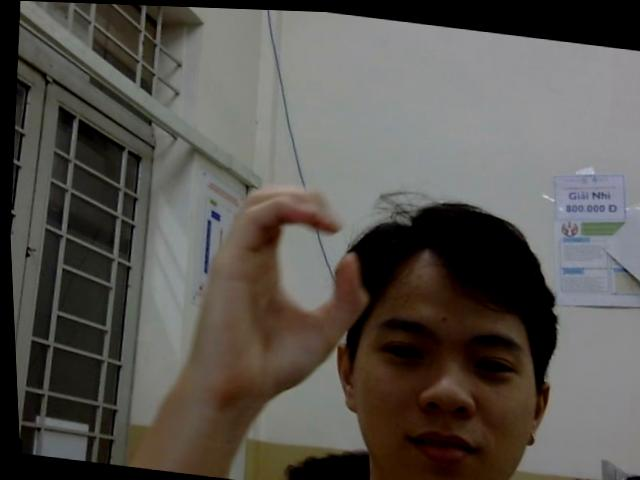C: (177, 169, 379, 414)
